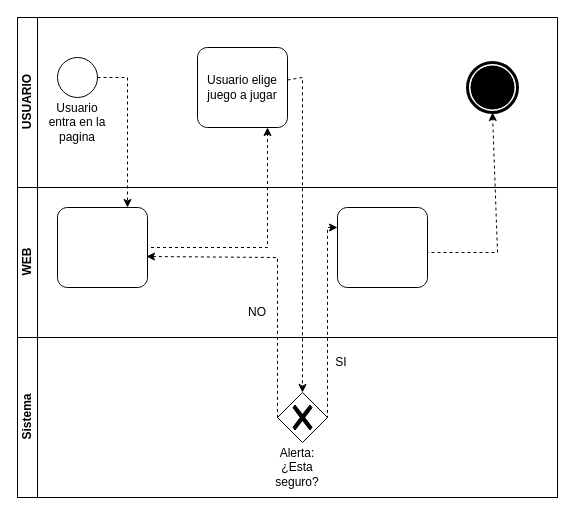
The diagram is 575 pixels wide and 515 high, and some of its shapes have lost their labels. Here are the shapes that lost their labels. From the top down, the centre of each, then its label:
At point (102, 247): "Muestra opciones de juego".
At point (382, 247): "Se abre una pagina aparte donde te redirigen al juego".
